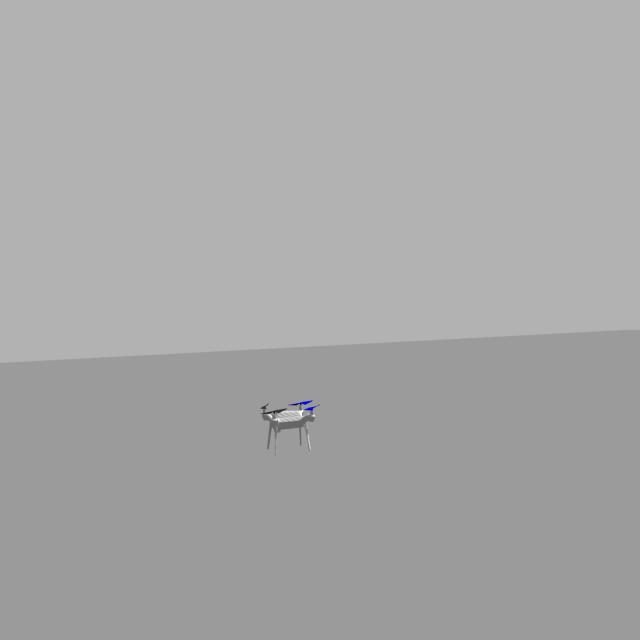Drone: (256, 388, 324, 456)
